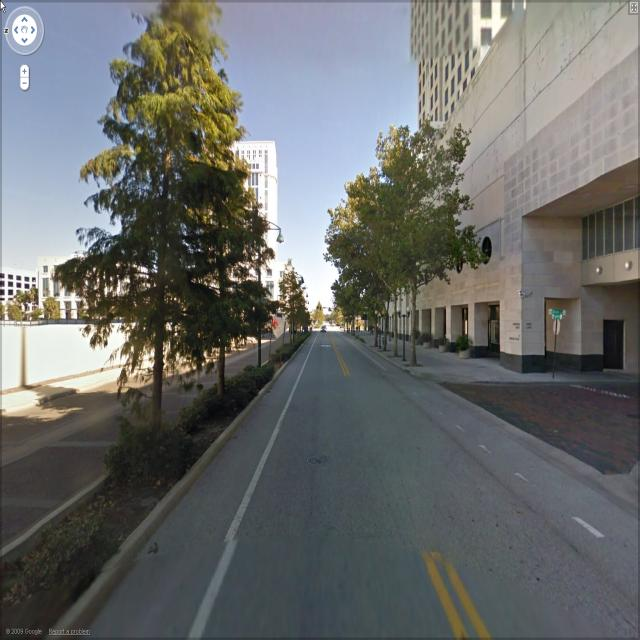b_2: (359, 1, 640, 380), (191, 124, 291, 346), (36, 244, 180, 328), (0, 250, 42, 334)
